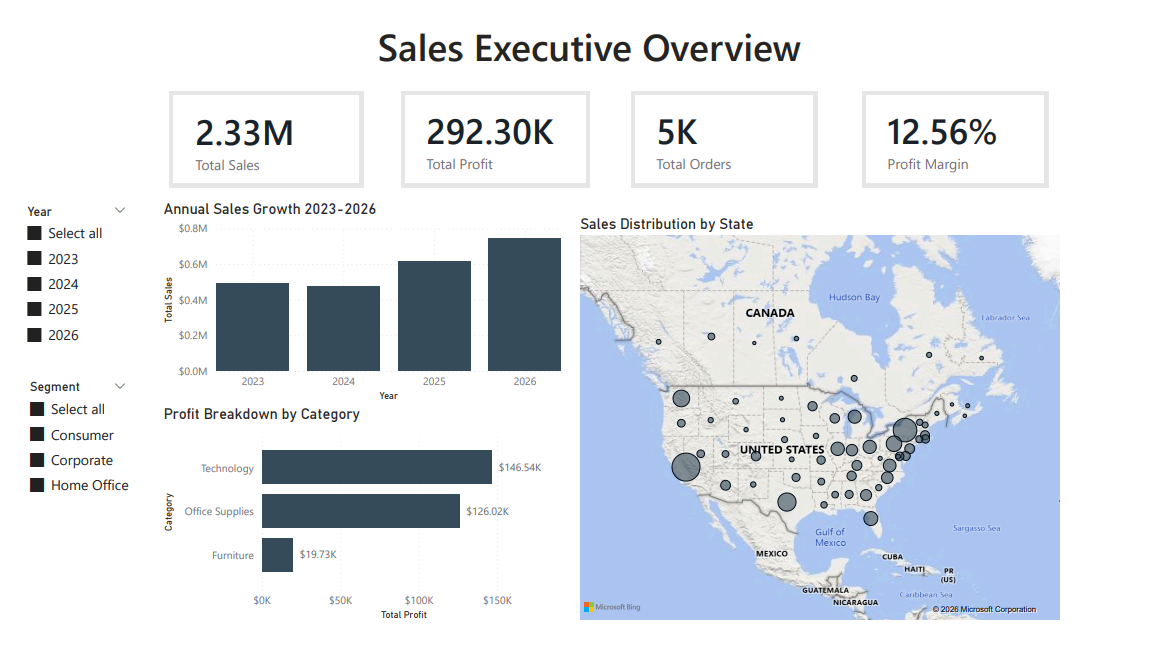

What the dashboard file says about the page in this screenshot:
{"tool":"powerbi","page":{"name":"Executive Overview","canvas":[1280,720],"ordinal":0},"visuals":[{"type":"cardVisual","fields":{"Data":["Sum(sample_-_superstore.Sales)"]},"box":[174.9,85.8,221.8,110.1],"z":0},{"type":"cardVisual","fields":{"Data":["Sum(sample_-_superstore.Profit)"]},"box":[440.4,85.8,215.4,110.1],"z":1000},{"type":"cardVisual","fields":{"Data":["sample_-_superstore.Profit Margin"]},"box":[966.7,85.8,213.7,110.1],"z":2000},{"type":"cardVisual","fields":{"Data":["sample_-_superstore.Total Orders"]},"box":[702.7,85.8,213.7,110.1],"z":3000},{"type":"slicer","fields":{"Values":["sample_-_superstore.Year"]},"box":[0,210.5,137.6,173.3],"z":4000},{"type":"clusteredBarChart","title":"Profit Breakdown by Category","fields":{"Y":["sample_-_superstore.Total Profit"],"Category":["sample_-_superstore.Category"]},"box":[163.5,445.3,464.7,249.4],"z":5000},{"type":"clusteredColumnChart","title":"Annual Sales Growth 2023-2026","fields":{"Category":["sample_-_superstore.Order Date.Variation.Date Hierarchy.Year","sample_-_superstore.Order Date.Variation.Date Hierarchy.Quarter","sample_-_superstore.Order Date.Variation.Date Hierarchy.Month","sample_-_superstore.Order Date.Variation.Date Hierarchy.Day"],"Y":["sample_-_superstore.Total Sales"]},"box":[163.5,210.5,464.7,234.8],"z":6000},{"type":"map","title":"Sales Distribution by State","fields":{"Category":["sample_-_superstore.State/Province"],"Size":["sample_-_superstore.Total Sales"]},"box":[639.6,226.7,558.6,468],"z":7000},{"type":"slicer","fields":{"Values":["sample_-_superstore.Segment"]},"box":[3.2,411.3,134.4,173.3],"z":8000},{"type":"textbox","box":[199.2,0,913.2,76.1],"z":9000}]}

Visuals, with their boxes in screenshot pixels (x1, y1, x2, y2), scaled from the page's 1280x720 canvas onto the 1150x661 screenshot:
cardVisual - Sum(sample_-_superstore.Sales): x1=157, y1=79, x2=356, y2=180
cardVisual - Sum(sample_-_superstore.Profit): x1=396, y1=79, x2=589, y2=180
cardVisual - sample_-_superstore.Profit Margin: x1=869, y1=79, x2=1061, y2=180
cardVisual - sample_-_superstore.Total Orders: x1=631, y1=79, x2=823, y2=180
slicer - sample_-_superstore.Year: x1=0, y1=193, x2=124, y2=352
"Profit Breakdown by Category" clusteredBarChart: x1=147, y1=409, x2=564, y2=638
"Annual Sales Growth 2023-2026" clusteredColumnChart: x1=147, y1=193, x2=564, y2=409
"Sales Distribution by State" map: x1=575, y1=208, x2=1077, y2=638
slicer - sample_-_superstore.Segment: x1=3, y1=378, x2=124, y2=537
textbox: x1=179, y1=0, x2=999, y2=70
